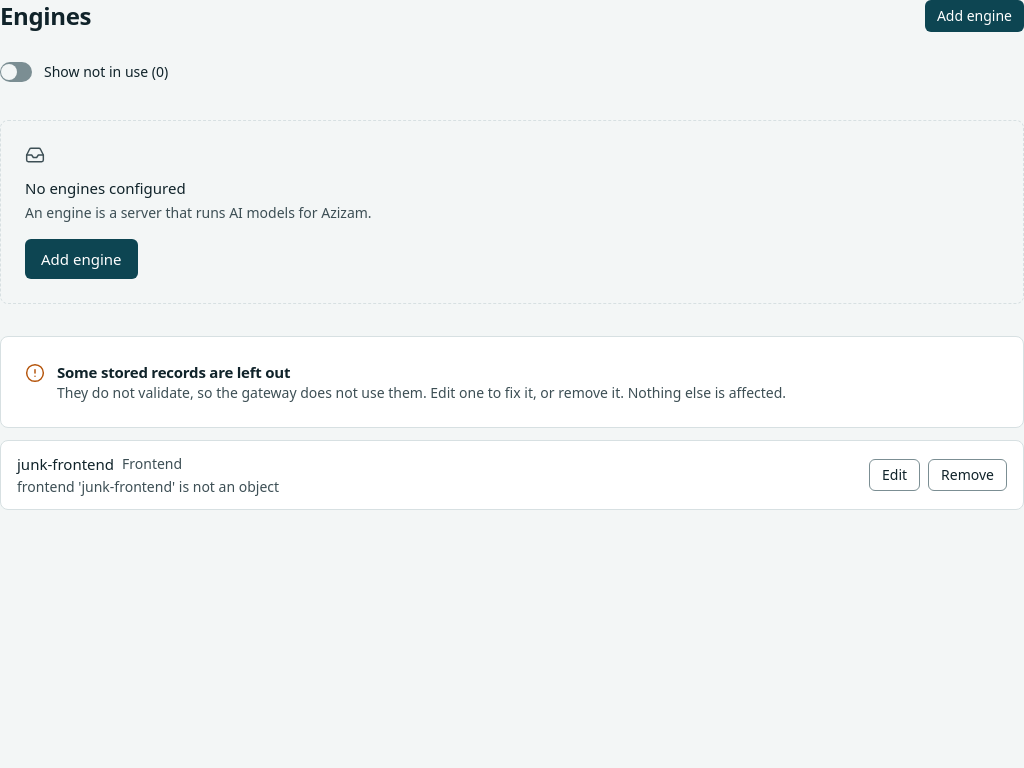
Test case: records the registry leaves out › for a record that cannot be shown, names the fields that could not be read and starts the editor empty
The width and height of the screenshot is (1024, 768).
Click the button with aria-label "Edit junk-frontend" at (895, 475), box [869,459,920,491]
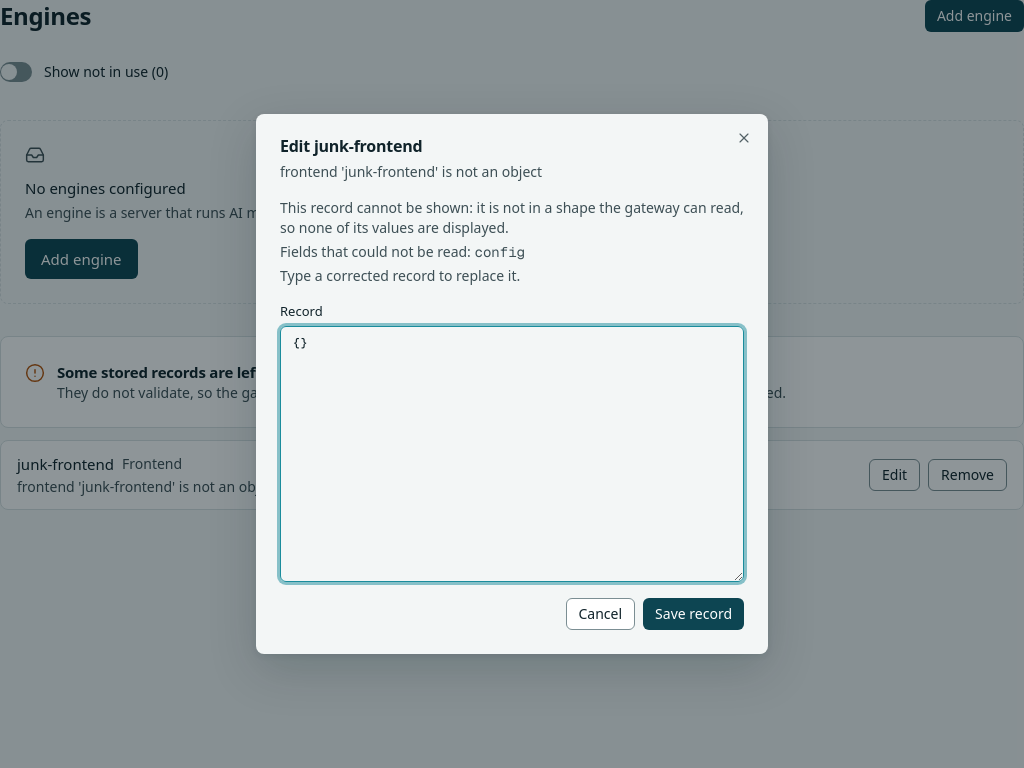
Expected: the text "cannot be shown" is shown, [280,198,744,237]
Expected: the text "config" is shown, [474,243,525,261]
Expected: the text box labelled "Record" holds "{}", [280,326,744,582]
